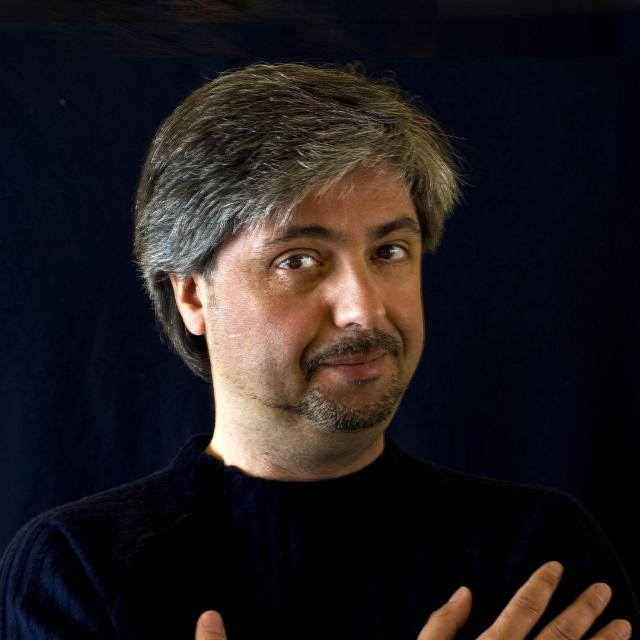no-glass: (268, 241, 418, 273)
